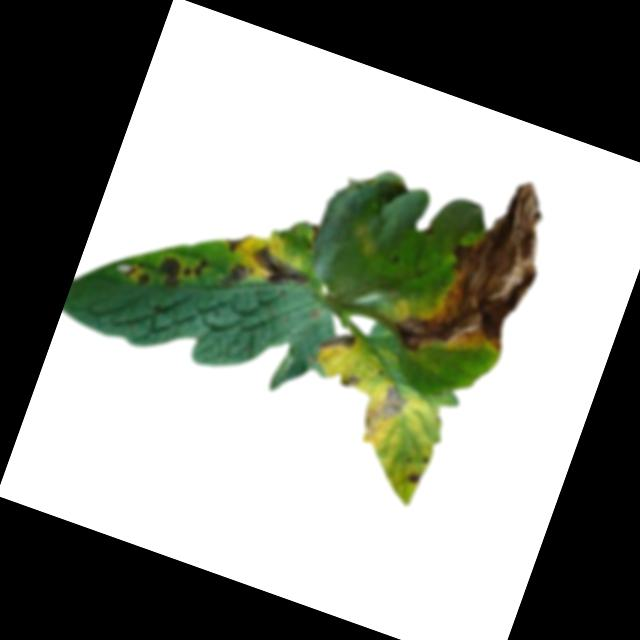Early_blight: (392, 155, 565, 378), (245, 241, 315, 294), (362, 379, 411, 440), (317, 323, 359, 360), (218, 257, 254, 292), (154, 253, 186, 288), (222, 225, 251, 258), (121, 260, 153, 288), (337, 366, 366, 392), (183, 252, 208, 281), (406, 465, 423, 485)
